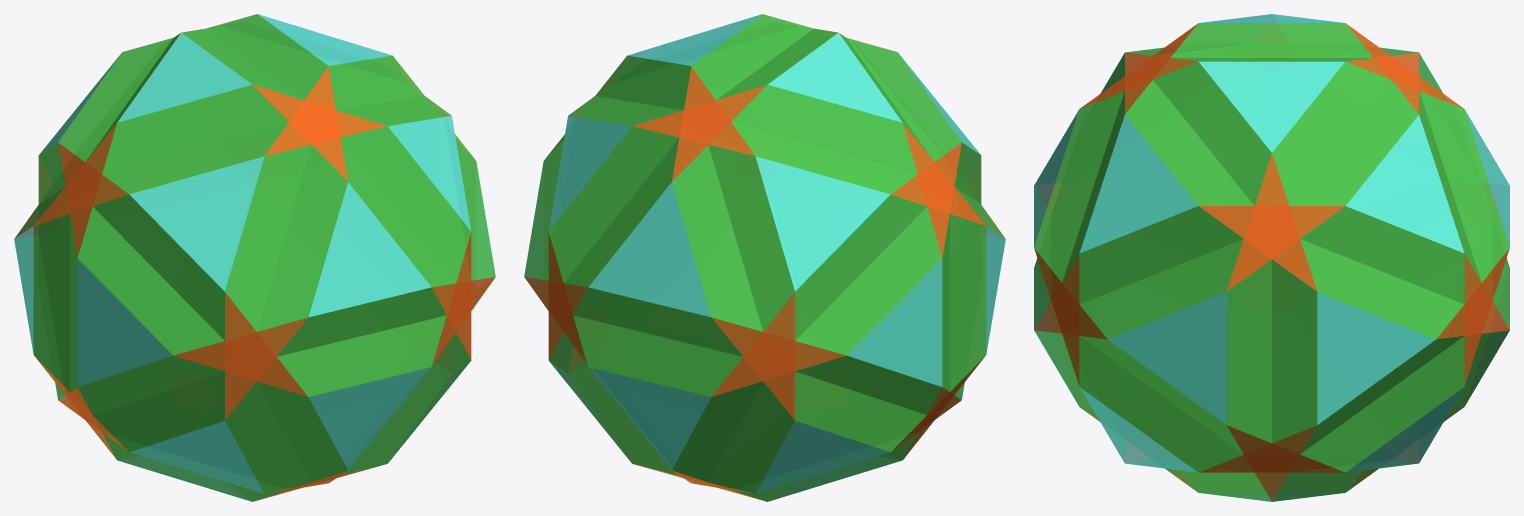
Rendered from SmallIcosicosidodecahedron.obj.
3 views of the same model, side by side, from view 1: azimuth 30°, elevation 25°; view 2: azimuth 150°, elevation 25°; view 3: azimuth 270°, elevation 25° (orthographic). The views are drawn at different scales.
Bounding box in the file's own units: 3.24 × 3.24 × 3.24.
